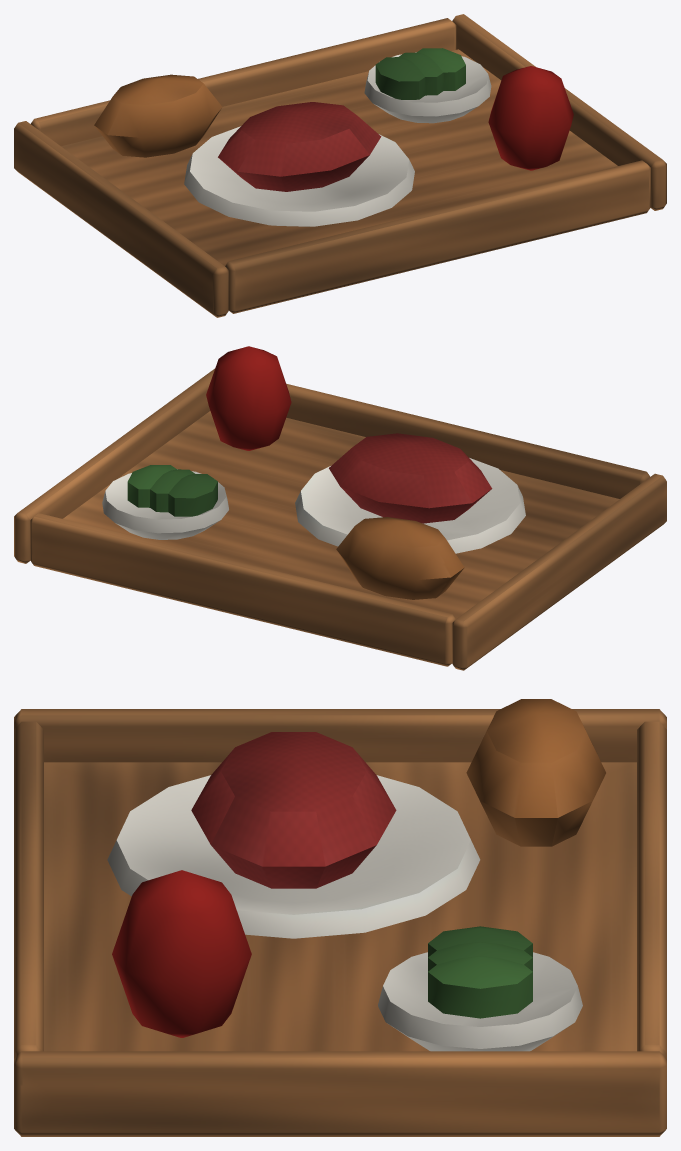
Rendered from Furn_Meal_Lunch.fbx.
3 views of the same model, one above another, from view 1: azimuth 30°, elevation 25°; view 2: azimuth 150°, elevation 25°; view 3: azimuth 270°, elevation 25° (orthographic). The views are drawn at different scales.
Parts seen in each view (by area): view 1: Furn_Meal_Lunch; view 2: Furn_Meal_Lunch; view 3: Furn_Meal_Lunch.
Part boxes in pixels (bbox=[...]): Furn_Meal_Lunch: bbox=[14, 14, 666, 317]; Furn_Meal_Lunch: bbox=[14, 346, 666, 670]; Furn_Meal_Lunch: bbox=[14, 699, 666, 1136].
Bounding box in the file's own units: 0.45 × 0.12 × 0.35.
Materials: 1 (1 with a texture image).
